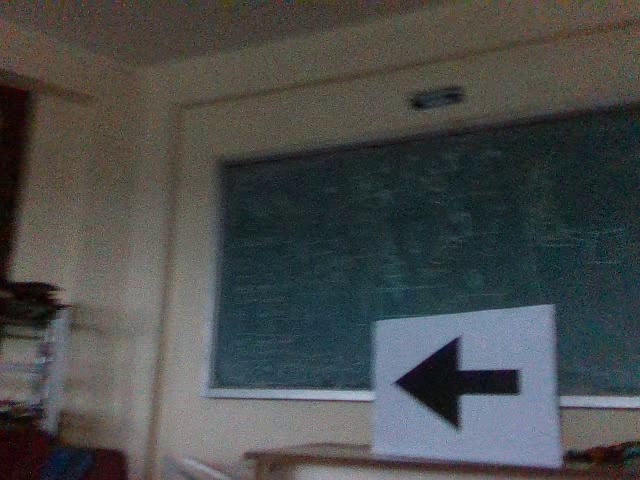Left: (387, 333, 542, 436)
